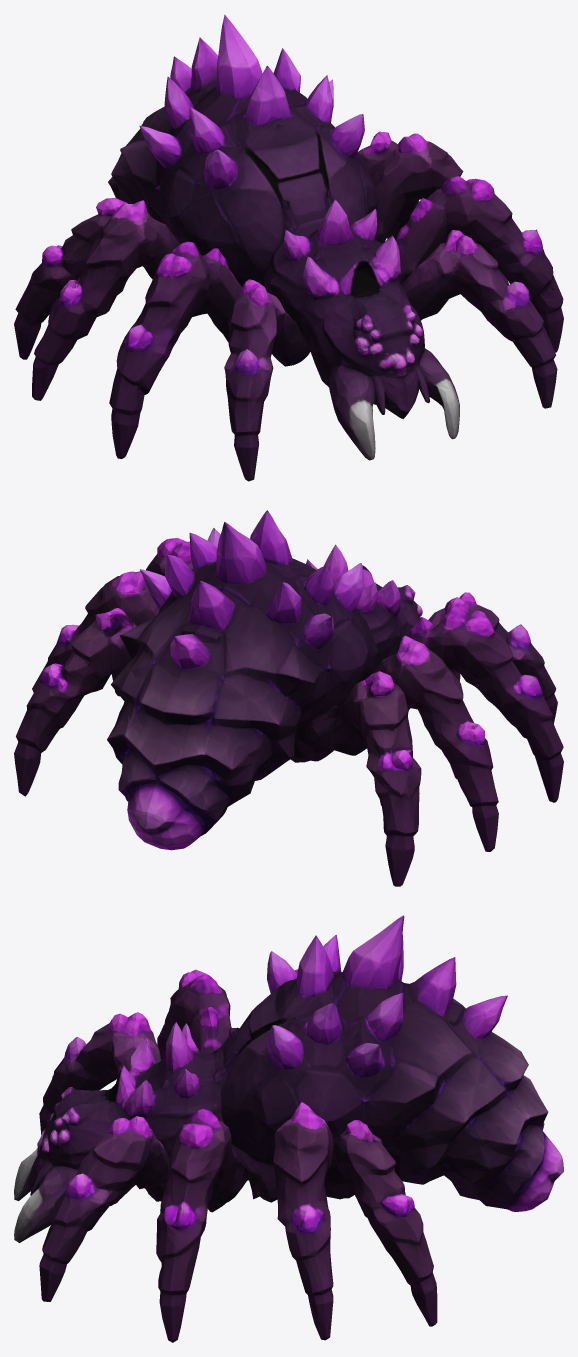
Rendered from trellis-1.glb.
The picture shows the model from 3 angles, top to bottom: view 1: azimuth 30°, elevation 25°; view 2: azimuth 150°, elevation 25°; view 3: azimuth 270°, elevation 25°; orthographic projection. The views are drawn at different scales.
Parts seen in each view (by area): view 1: world; view 2: world; view 3: world.
Part boxes in pixels (box(x1,y1,x2,y2)): world: box(14, 14, 563, 481); world: box(14, 510, 563, 886); world: box(14, 915, 563, 1342).
Size of the model in its own units: 1 by 0.6372 by 0.9965.
1 material, 1 textured.
